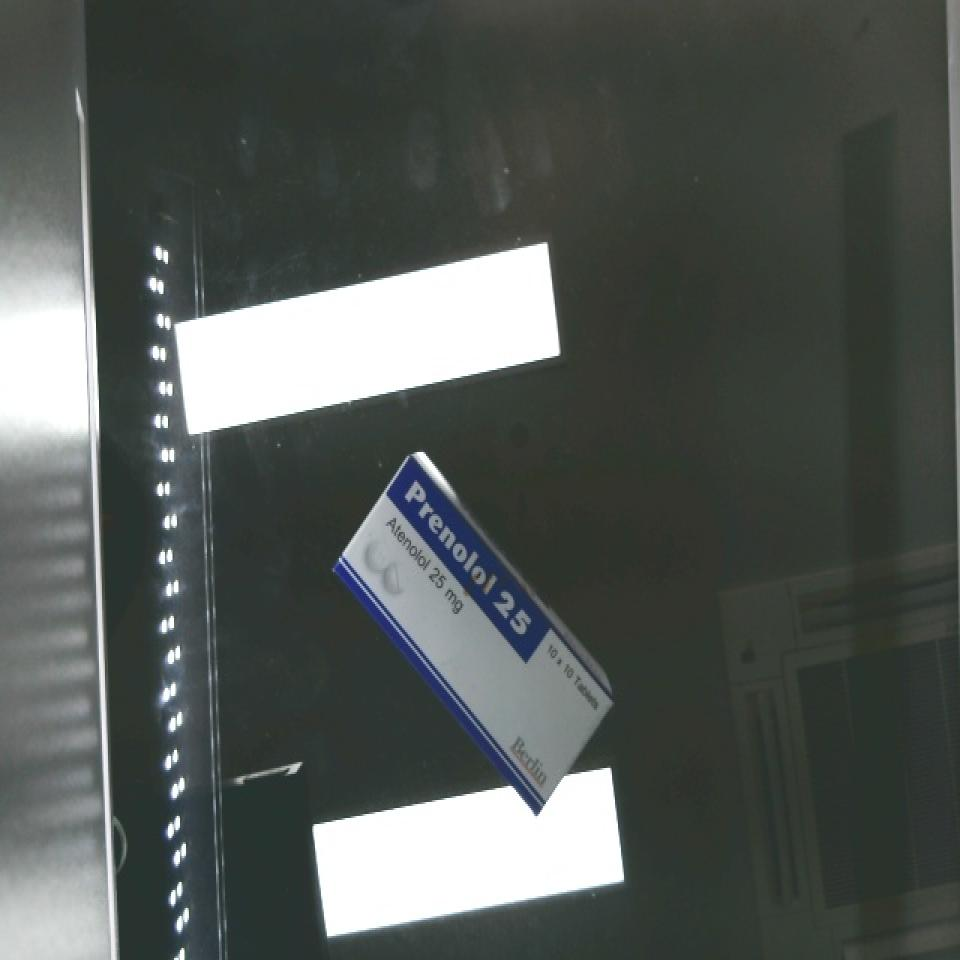medicine_box: (303, 449, 645, 824)
medicine_label_obb: (377, 456, 561, 663)
